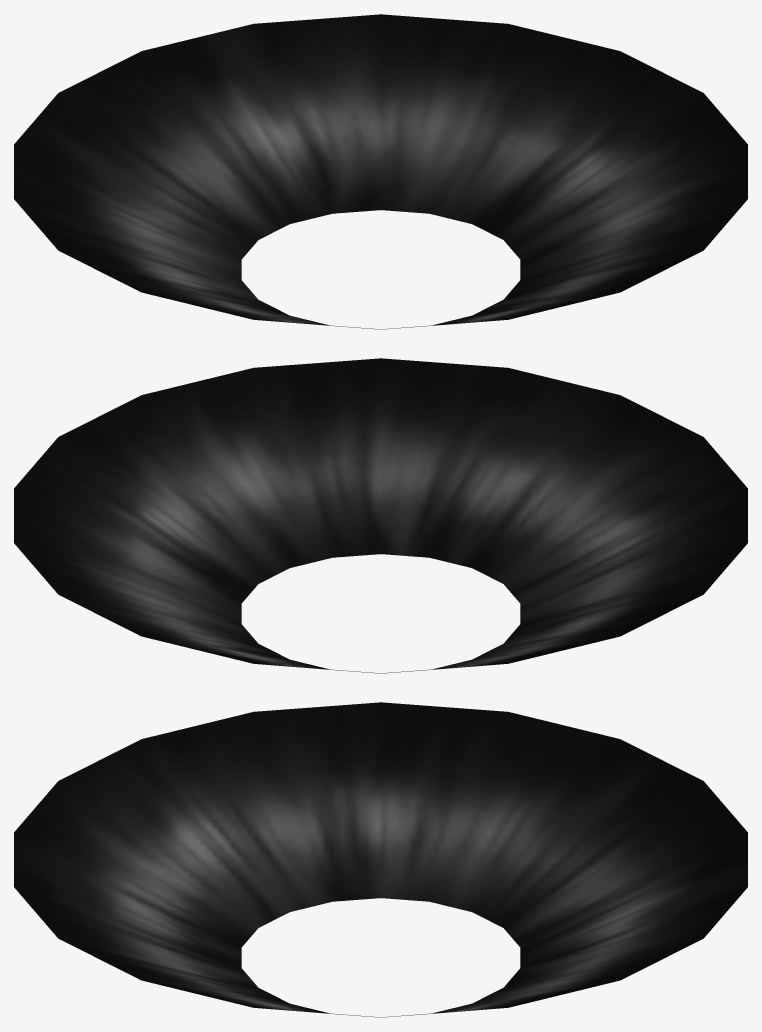
The model's file is kuosan.FBX.
3 views of the same model, one above another, from view 1: azimuth 30°, elevation 25°; view 2: azimuth 150°, elevation 25°; view 3: azimuth 270°, elevation 25° (orthographic).
Visible parts, largest first — view 1: Cone02; view 2: Cone02; view 3: Cone02.
Part boxes in pixels (x1=…): Cone02: x1=14, y1=14, x2=747, y2=329; Cone02: x1=14, y1=358, x2=747, y2=673; Cone02: x1=14, y1=702, x2=747, y2=1017.
Bounding box in the file's own units: 4593 × 667 × 4523.
